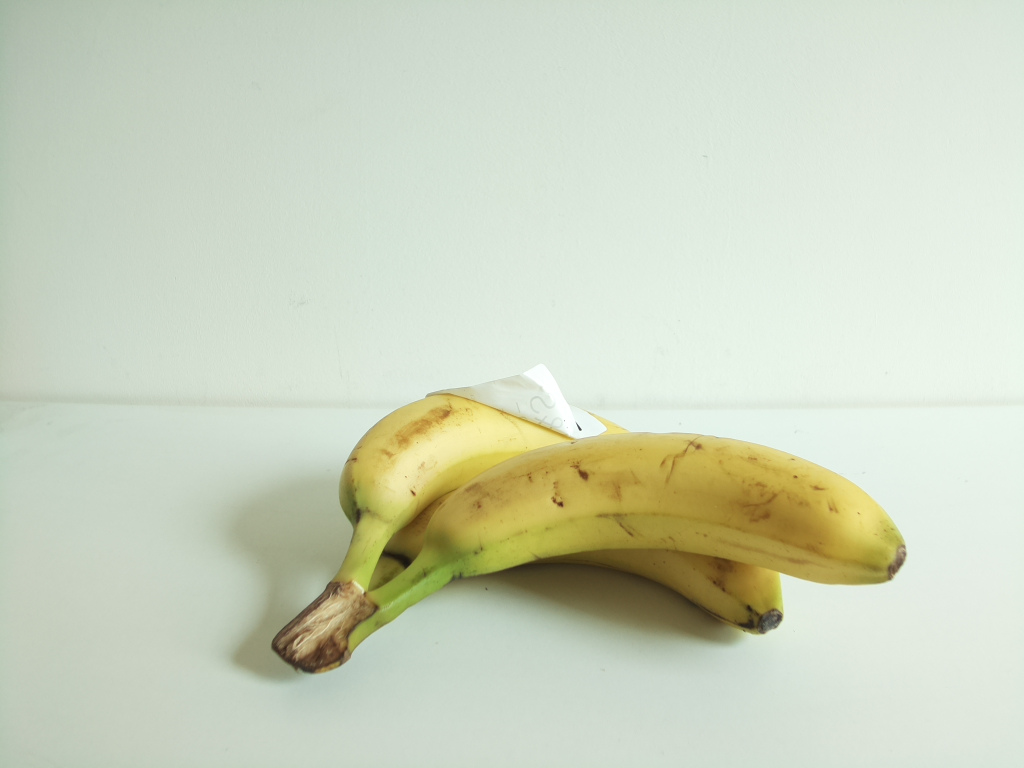banana: (270, 431, 910, 673), (268, 384, 784, 670)
